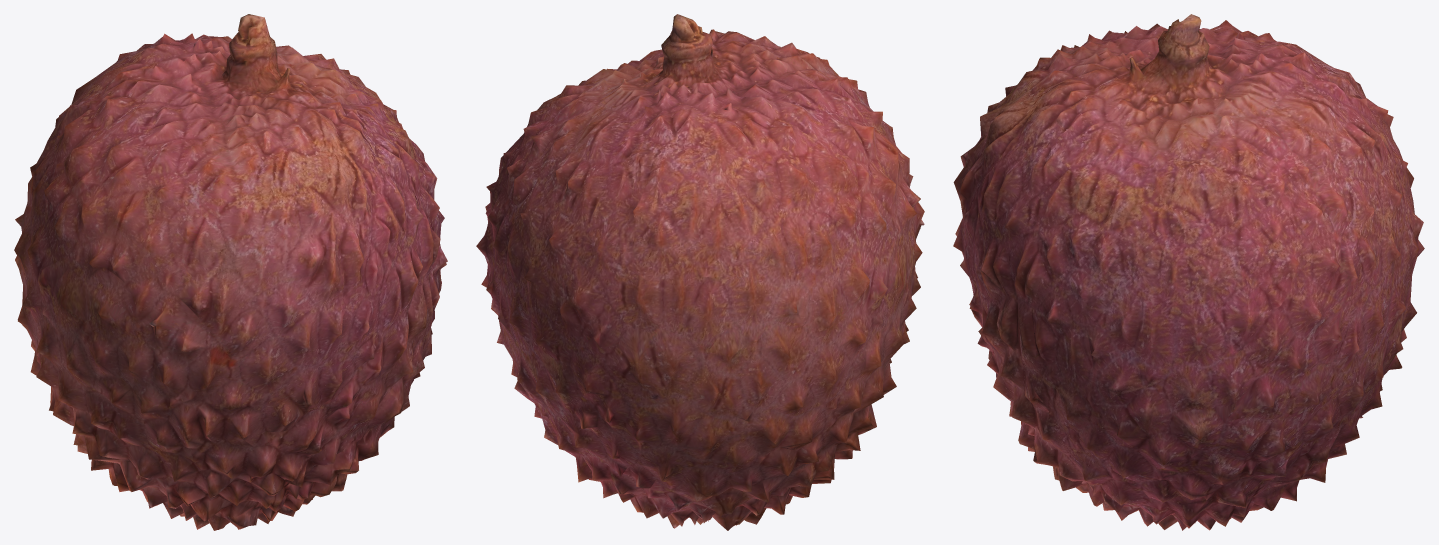
3 views of the same model, side by side, from view 1: azimuth 30°, elevation 25°; view 2: azimuth 150°, elevation 25°; view 3: azimuth 270°, elevation 25° (orthographic). The views are drawn at different scales.
Visible parts, largest first — view 1: food_lychee_01; view 2: food_lychee_01; view 3: food_lychee_01.
Part boxes in pixels (x1,y1,x2,y2): food_lychee_01: (14, 14, 447, 530); food_lychee_01: (476, 14, 924, 530); food_lychee_01: (953, 14, 1424, 530).
Bounding box in the file's own units: 0.0409 × 0.0506 × 0.042.
1 material, 1 textured.
